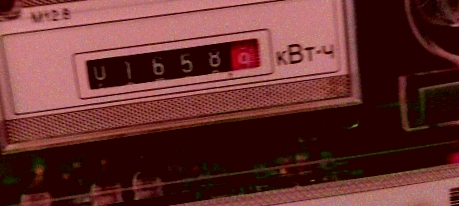0: (88, 58, 108, 81)
1: (118, 55, 135, 81)
5: (175, 48, 195, 74)
6: (147, 51, 168, 78)
8: (203, 44, 223, 68)
9: (233, 48, 252, 71)
screen: (67, 19, 279, 107)
